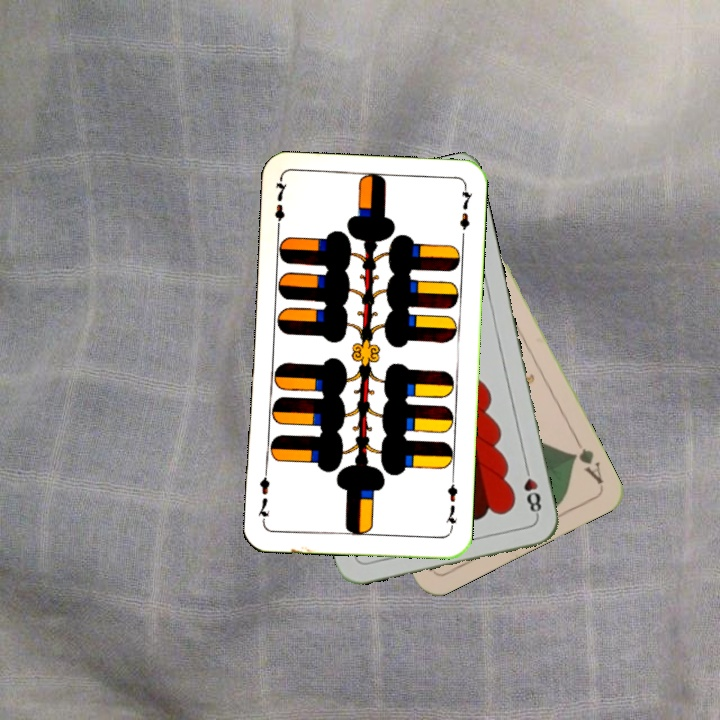E7: (270, 176, 290, 236), (441, 474, 461, 533)
GA: (567, 433, 606, 487)
H8: (519, 460, 544, 519)
